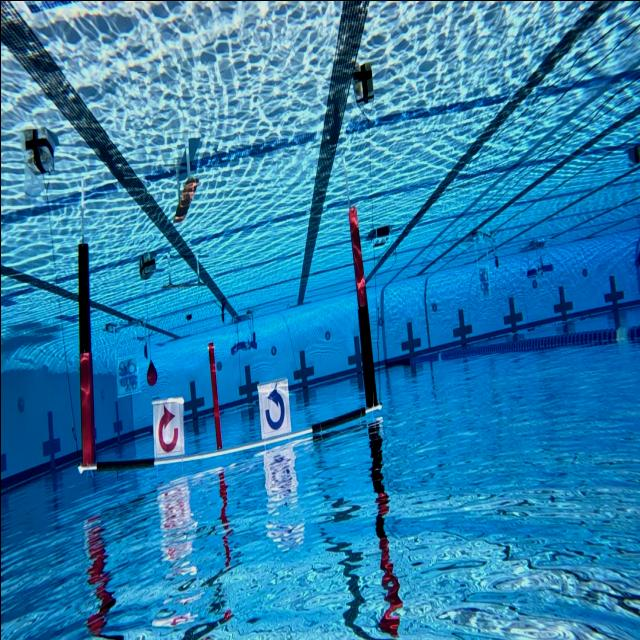blue_side: (255, 362, 293, 438)
red_side: (148, 390, 188, 456)
